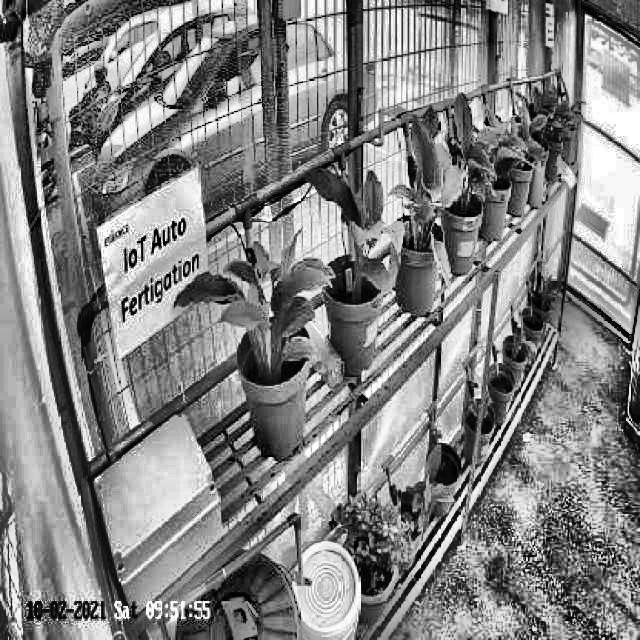plants: (172, 224, 336, 382), (388, 106, 462, 292), (306, 168, 405, 304)
